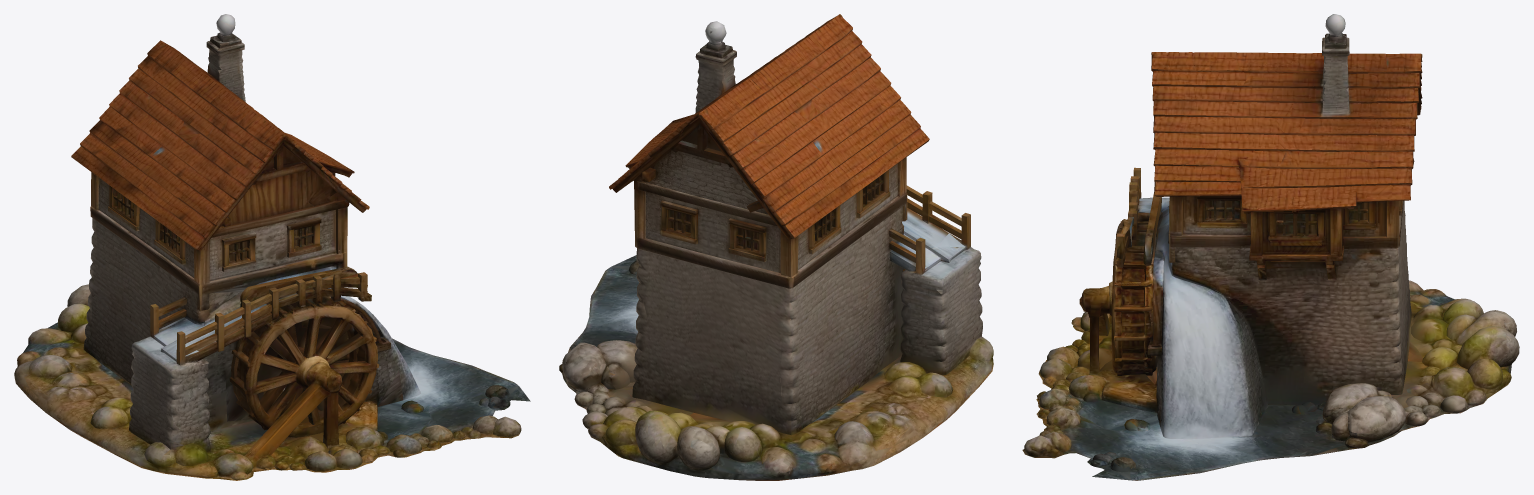
Rendered from moinho.glb.
The picture shows the model from 3 angles, left to right: view 1: azimuth 30°, elevation 25°; view 2: azimuth 150°, elevation 25°; view 3: azimuth 270°, elevation 25°; orthographic projection. The views are drawn at different scales.
Parts seen in each view (by area): view 1: material; view 2: material; view 3: material.
Boxes of the visible parts, x1,y1,x2,y2 form: material: (14,14,530,480); material: (559,14,993,480); material: (1022,14,1519,480).
Size of the model in its own units: 10.36 by 9 by 11.09.
Materials: 1 (1 with a texture image).
